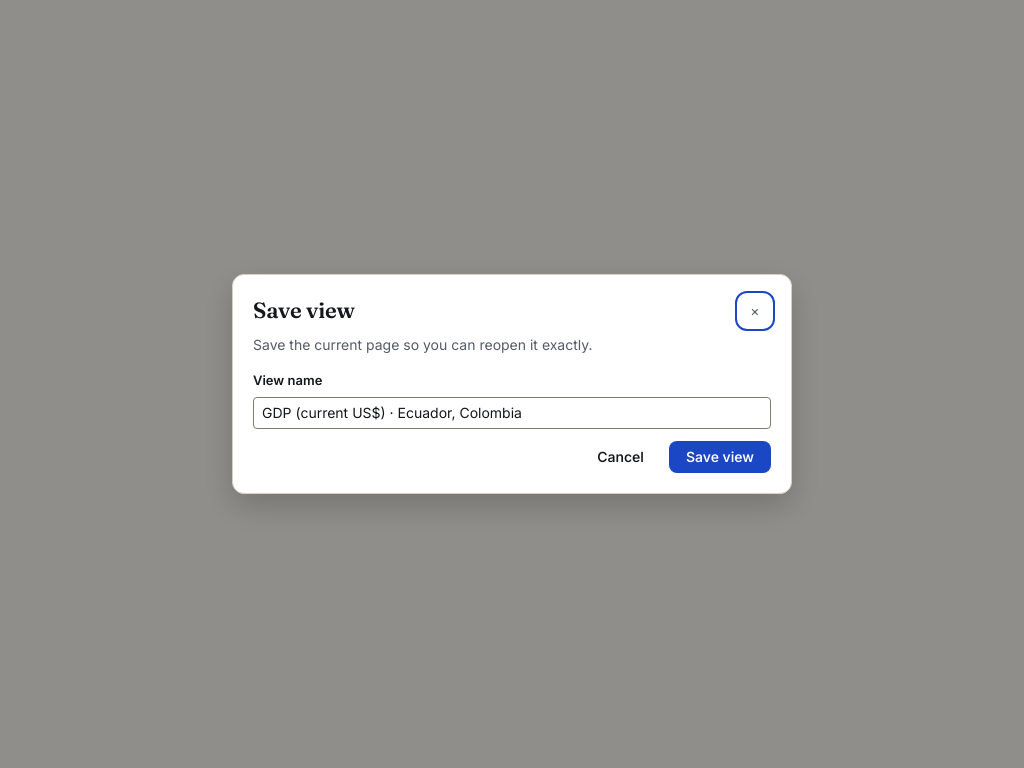
it: SaveViewDialog › maps backend validation errors to the translated message
Expected: the field labelled "View name" is not empty, [253,397,771,429]
Click the button "Save view" at (720, 457), box [669,441,771,473]
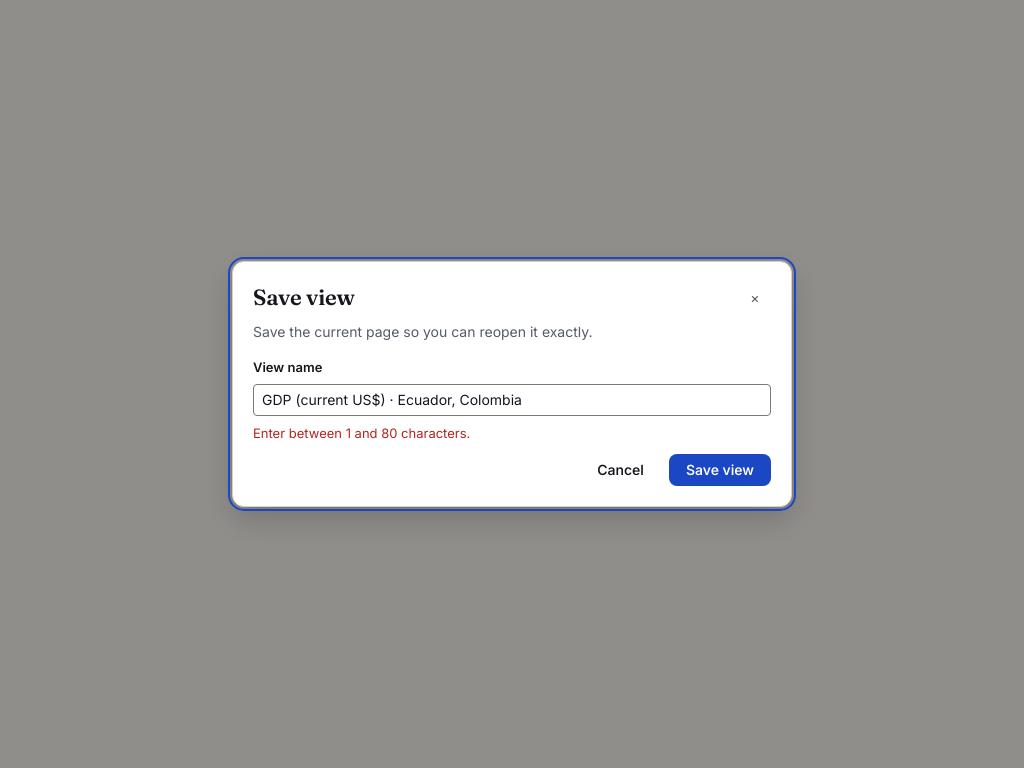
Now the message reads "Enter between 1 and 80 characters.", box [253,425,470,441]
